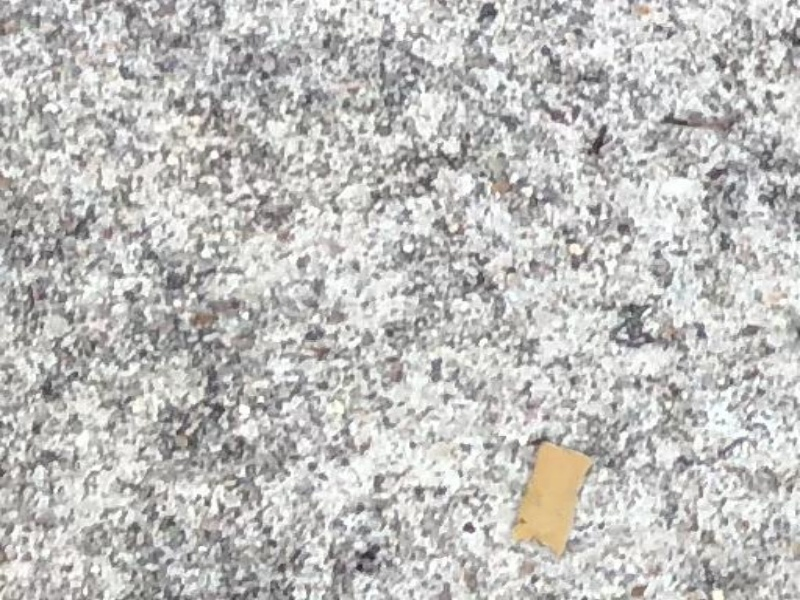cig: (504, 433, 589, 554)
